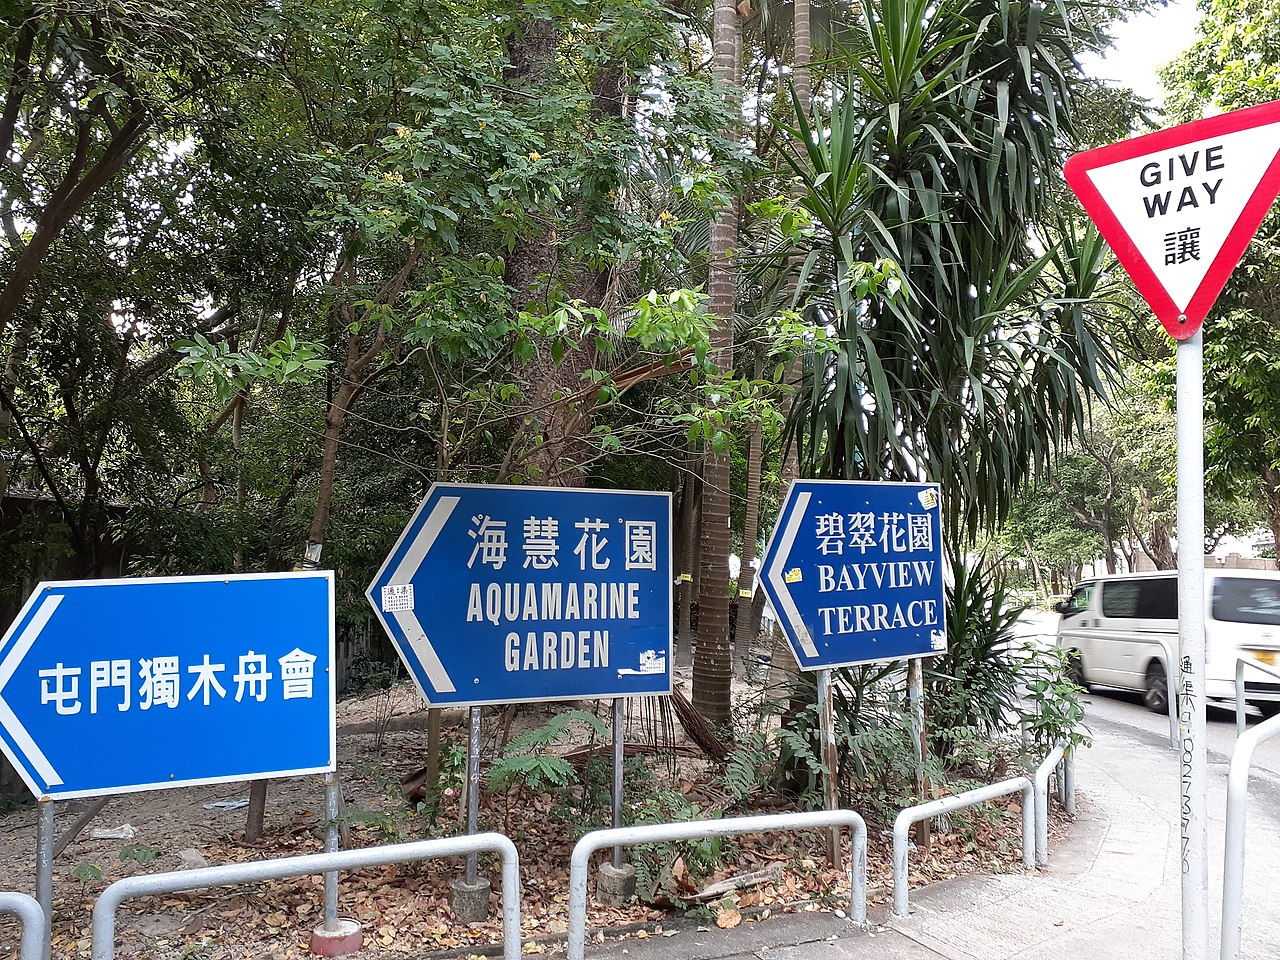Give Way: (1055, 98, 1280, 343)
